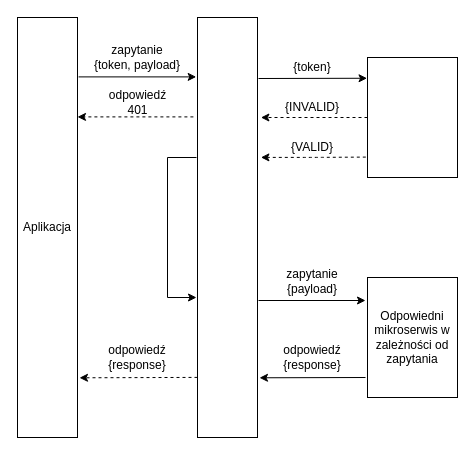
The diagram is 475 pixels wide and 455 high, and some of its shapes have lost their labels. Here are the shapes that lost their labels. From the top down, the box of each, then its label:
(366, 56, 458, 178): Mikroserwis autoryzacji
(196, 16, 258, 438): Web Server
